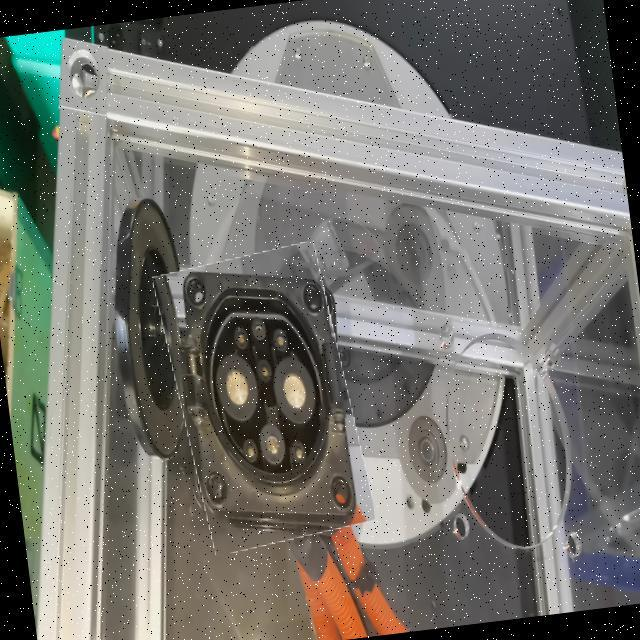GB-T: (183, 267, 365, 523)
